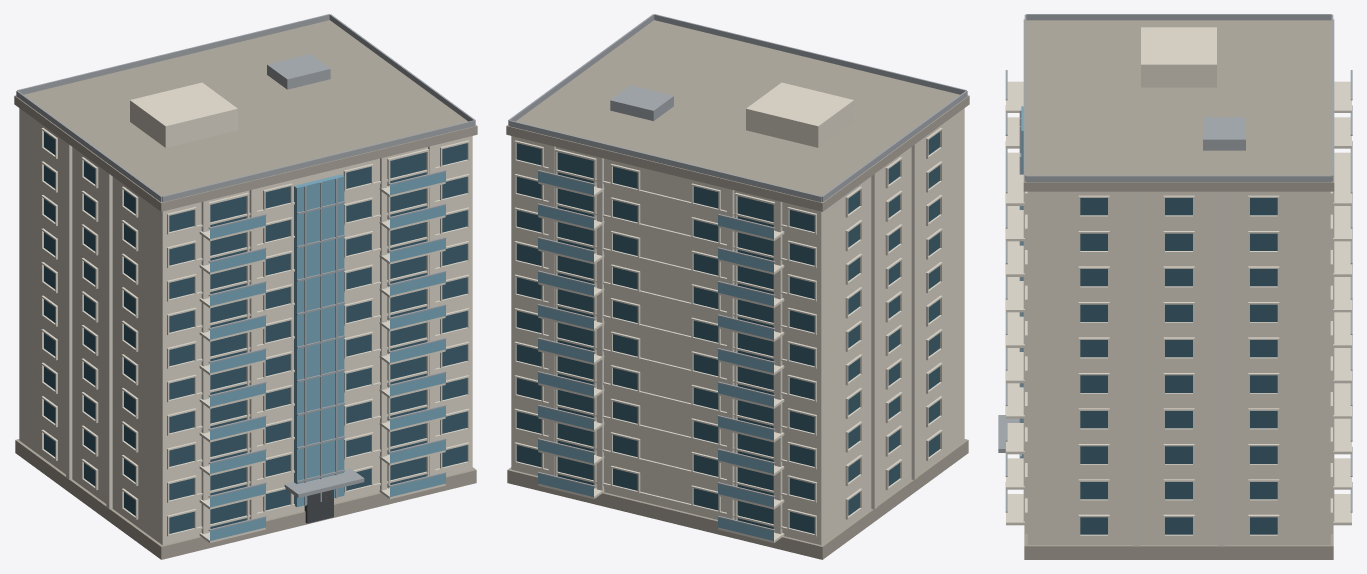
File: midrise_b.glb
3 views of the same model, side by side, from view 1: azimuth 30°, elevation 25°; view 2: azimuth 150°, elevation 25°; view 3: azimuth 270°, elevation 25° (orthographic). The views are drawn at different scales.
Parts seen in each view (by area): view 1: Merged_HeroPlaster, Merged_HeroStone, Merged_HeroTrim, Merged_WindowGlassDark, Merged_FacadeGlass, Merged_PropsMetal, mid_door; view 2: Merged_HeroPlaster, Merged_HeroStone, Merged_HeroTrim, Merged_WindowGlassDark, Merged_FacadeGlass, Merged_PropsMetal; view 3: Merged_HeroPlaster, Merged_HeroStone, Merged_HeroTrim, Merged_WindowGlassDark, Merged_PropsMetal.
Boxes of the visible parts, left/top/right/bottom form: Merged_HeroPlaster: left=19, top=82, right=472, bottom=545; Merged_HeroStone: left=14, top=20, right=477, bottom=559; Merged_HeroTrim: left=41, top=127, right=469, bottom=542; Merged_WindowGlassDark: left=44, top=132, right=467, bottom=533; Merged_FacadeGlass: left=210, top=171, right=445, bottom=540; Merged_PropsMetal: left=16, top=14, right=475, bottom=530; mid_door: left=304, top=489, right=333, bottom=523; Merged_HeroPlaster: left=511, top=82, right=964, bottom=545; Merged_HeroStone: left=506, top=20, right=969, bottom=559; Merged_HeroTrim: left=514, top=127, right=942, bottom=542; Merged_WindowGlassDark: left=516, top=132, right=939, bottom=533; Merged_FacadeGlass: left=538, top=171, right=773, bottom=540; Merged_PropsMetal: left=508, top=14, right=967, bottom=530; Merged_HeroPlaster: left=1027, top=27, right=1330, bottom=544; Merged_HeroStone: left=1023, top=19, right=1334, bottom=559; Merged_HeroTrim: left=1006, top=81, right=1351, bottom=546; Merged_WindowGlassDark: left=1080, top=198, right=1277, bottom=534; Merged_PropsMetal: left=998, top=14, right=1352, bottom=512.
Bounding box in the file's own units: 30.6 × 35 × 28.04.
